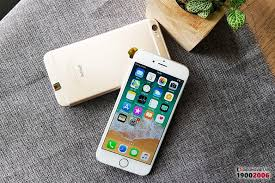iphone: (96, 48, 192, 178)
iphone6: (96, 46, 192, 176)
